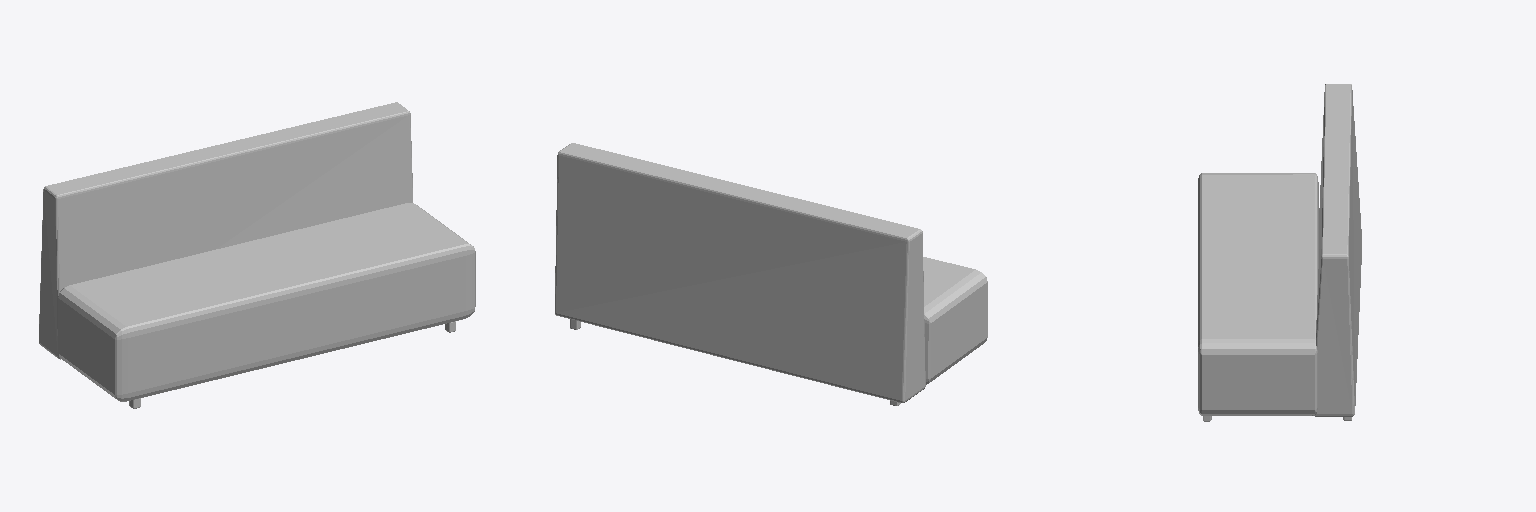
File: Sofa.obj
3 renders of one model, left to right at view 1: azimuth 30°, elevation 25°; view 2: azimuth 150°, elevation 25°; view 3: azimuth 270°, elevation 25°, orthographic.
Visible parts, largest first — view 1: polySurface31 polySurface36, polySurface31 polySurface34; view 2: polySurface31 polySurface34, polySurface31 polySurface36; view 3: polySurface31 polySurface36, polySurface31 polySurface34.
Part boxes in pixels (bbox=[...]): polySurface31 polySurface36: bbox=[58, 203, 475, 401]; polySurface31 polySurface34: bbox=[39, 102, 412, 359]; polySurface31 polySurface34: bbox=[555, 143, 925, 402]; polySurface31 polySurface36: bbox=[923, 257, 987, 384]; polySurface31 polySurface36: bbox=[1198, 173, 1318, 415]; polySurface31 polySurface34: bbox=[1312, 84, 1361, 416].
Bounding box in the file's own units: 7.31 × 3.36 × 2.89.